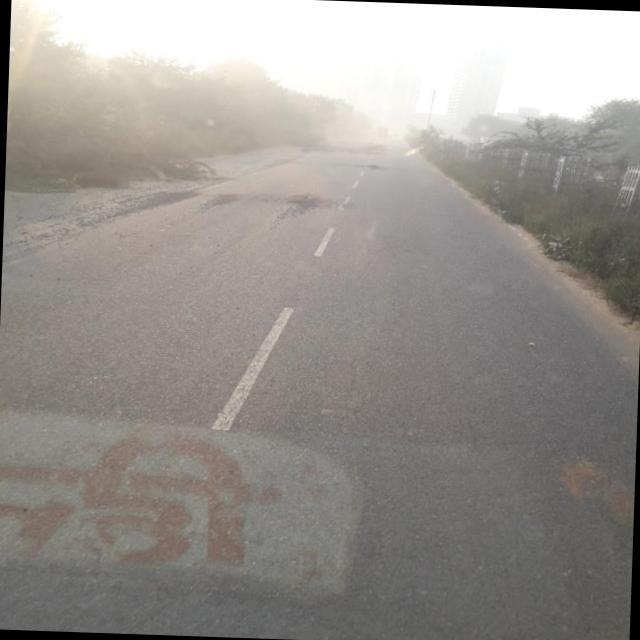crack: (266, 188, 326, 234), (198, 187, 244, 216)
